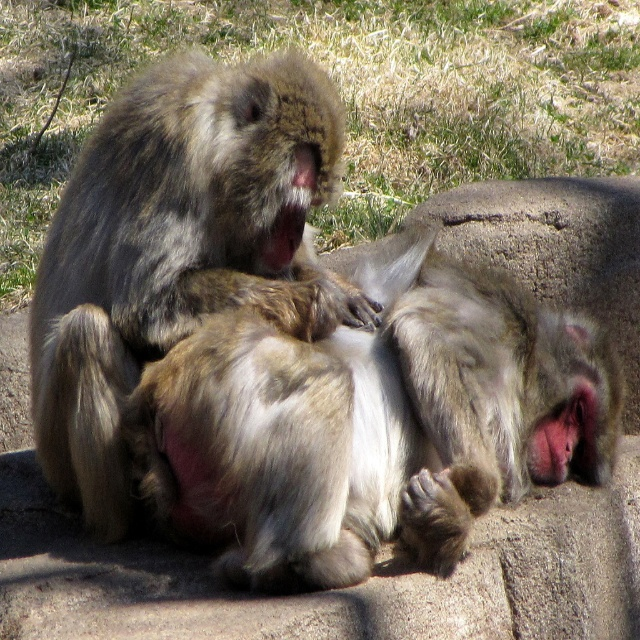Monkey: (25, 43, 386, 547), (120, 226, 624, 586)
